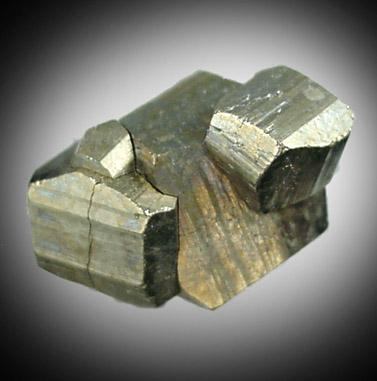pyrite: (26, 66, 355, 310)
